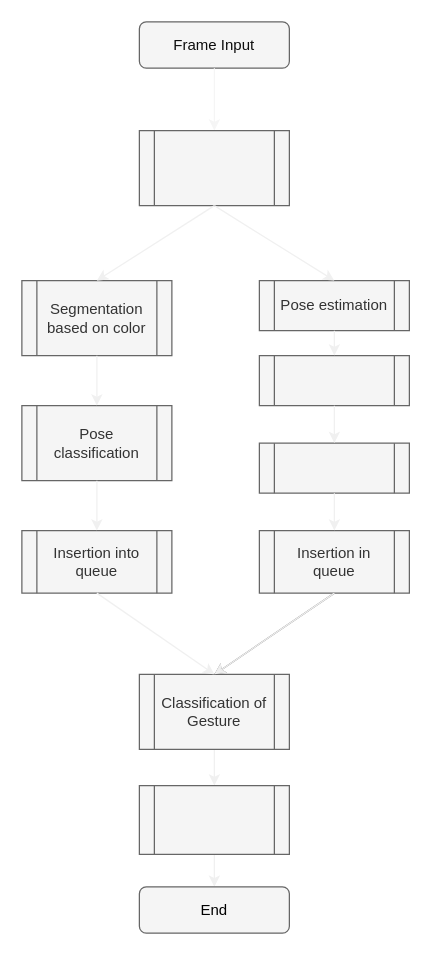
Some shapes in this 431 by 955 pixel diagram are drawn without their labels. The shapes that lost their labels are listed below. From the top down, each one's centre as x and y in pixels, then its label:
pixel 213 167: Bounding box prediction
pixel 333 380: 3D Conversion
pixel 333 467: Conversion to RGB
pixel 213 819: Command execution
